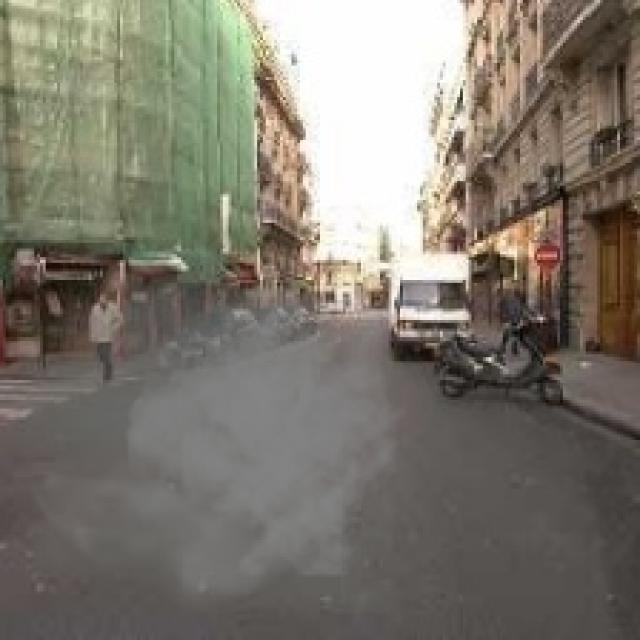Smoke: (26, 262, 408, 614)
